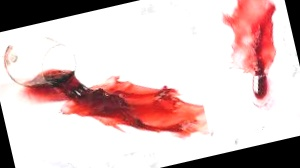wine: (103, 73, 208, 157), (31, 61, 143, 131), (215, 0, 288, 80)
